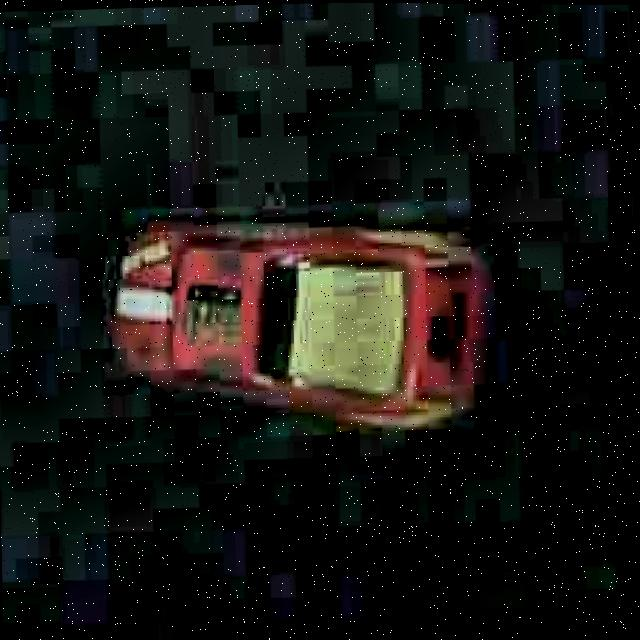car: (97, 207, 499, 445)
